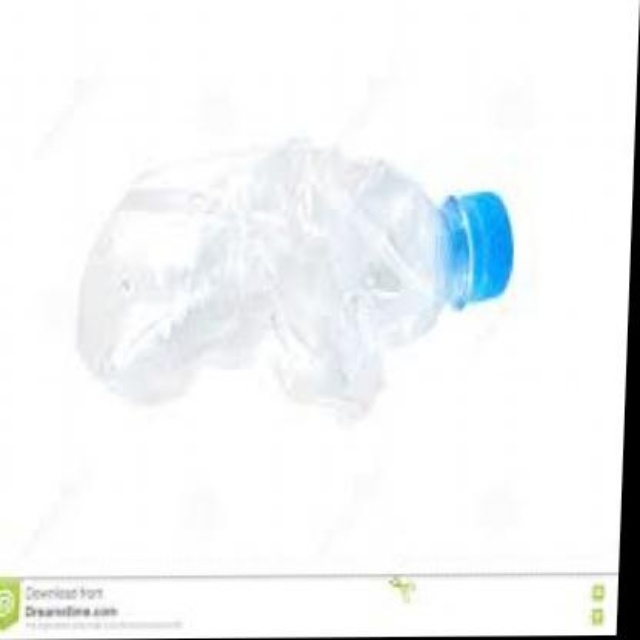trash: (78, 140, 512, 415)
